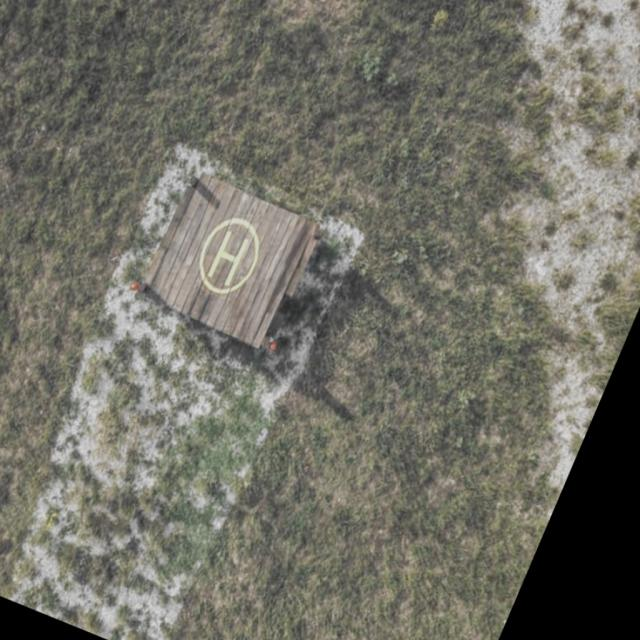helipad: (194, 213, 262, 297)
